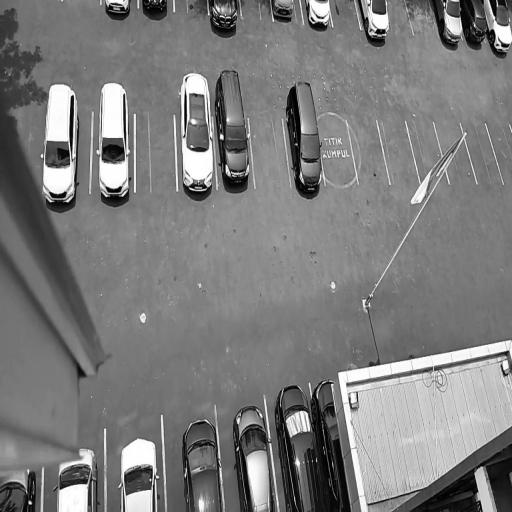Car: (273, 377, 324, 512), (36, 81, 86, 214), (309, 371, 352, 512), (282, 75, 327, 206), (210, 63, 250, 209), (179, 68, 218, 214), (96, 72, 134, 216), (226, 405, 276, 512), (176, 417, 224, 512), (115, 437, 162, 512), (55, 452, 97, 512), (432, 0, 471, 50), (0, 466, 37, 512), (483, 0, 512, 58), (356, 0, 393, 45), (460, 0, 489, 46), (209, 0, 241, 39), (304, 0, 334, 29), (270, 0, 300, 27), (101, 0, 135, 23), (139, 0, 170, 22)
Space Available: (136, 111, 179, 192), (250, 116, 292, 188), (377, 120, 421, 187), (317, 118, 357, 188), (348, 118, 390, 183), (436, 122, 478, 187), (406, 121, 449, 184), (461, 124, 504, 184), (485, 121, 512, 182), (406, 0, 438, 35), (330, 0, 361, 28), (387, 0, 413, 33), (240, 0, 272, 20), (173, 0, 210, 12)
